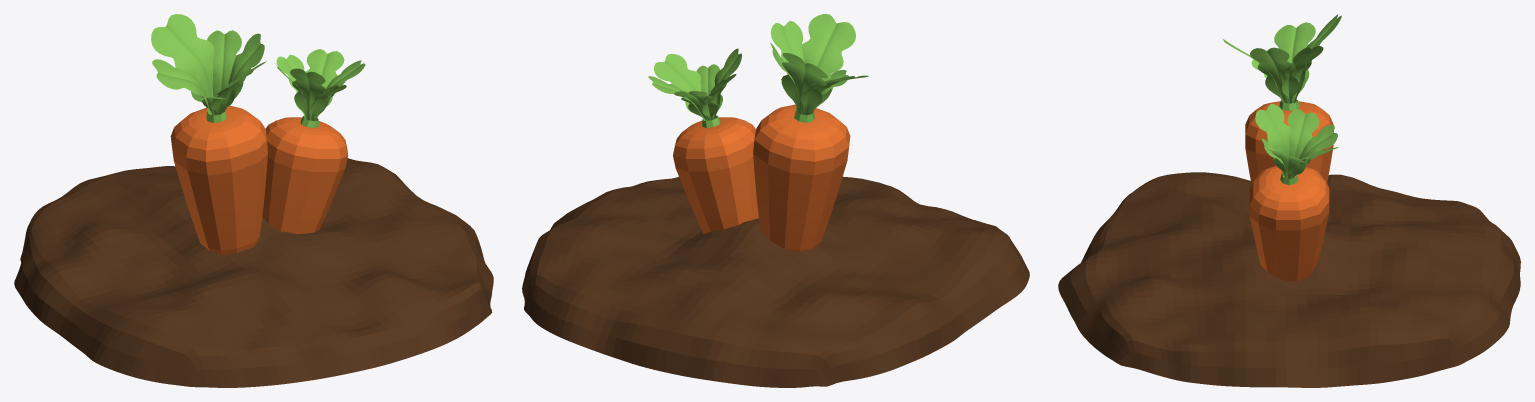
File: carrot.ani.fbx
3 views of the same model, side by side, from view 1: azimuth 30°, elevation 25°; view 2: azimuth 150°, elevation 25°; view 3: azimuth 270°, elevation 25° (orthographic). The views are drawn at different scales.
Parts seen in each view (by area): view 1: Cylinder, Cylinder.001, Cylinder.002; view 2: Cylinder, Cylinder.001, Cylinder.002; view 3: Cylinder, Cylinder.001, Cylinder.002.
Boxes of the visible parts, x1,y1,x2,y2 form: Cylinder: (14,105,493,387); Cylinder.001: (151,14,266,122); Cylinder.002: (274,49,365,128); Cylinder: (522,104,1029,387); Cylinder.001: (770,14,868,122); Cylinder.002: (648,48,741,127); Cylinder: (1058,101,1520,387); Cylinder.001: (1222,14,1341,110); Cylinder.002: (1255,104,1338,185).
Size of the model in its own units: 267 by 161 by 265.
